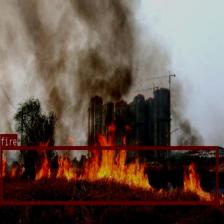fire: (0, 146, 218, 203)
